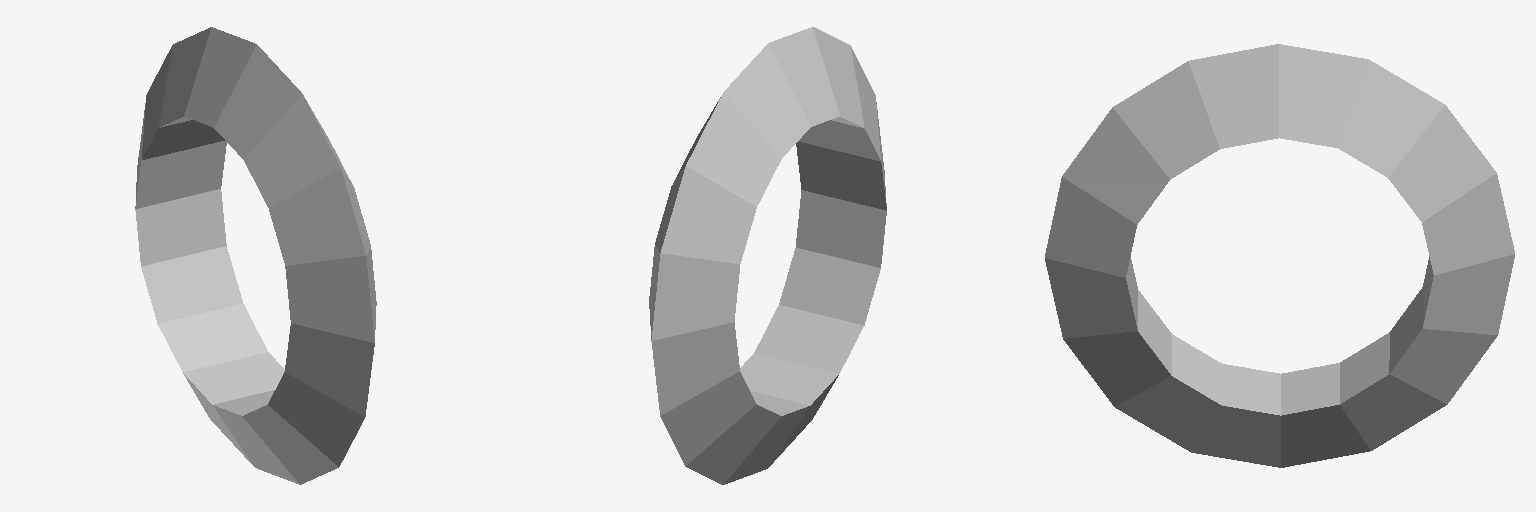
File: Ring.obj
3 renders of one model, left to right at view 1: azimuth 30°, elevation 25°; view 2: azimuth 150°, elevation 25°; view 3: azimuth 270°, elevation 25°, orthographic.
Parts seen in each view (by area): view 1: Ring; view 2: Ring; view 3: Ring.
Part boxes in pixels (left/top/right/bottom): Ring: left=135, top=27, right=376, bottom=484; Ring: left=649, top=27, right=886, bottom=484; Ring: left=1045, top=44, right=1514, bottom=467.
Bounding box in the file's own units: 2.02 × 9.37 × 9.42.